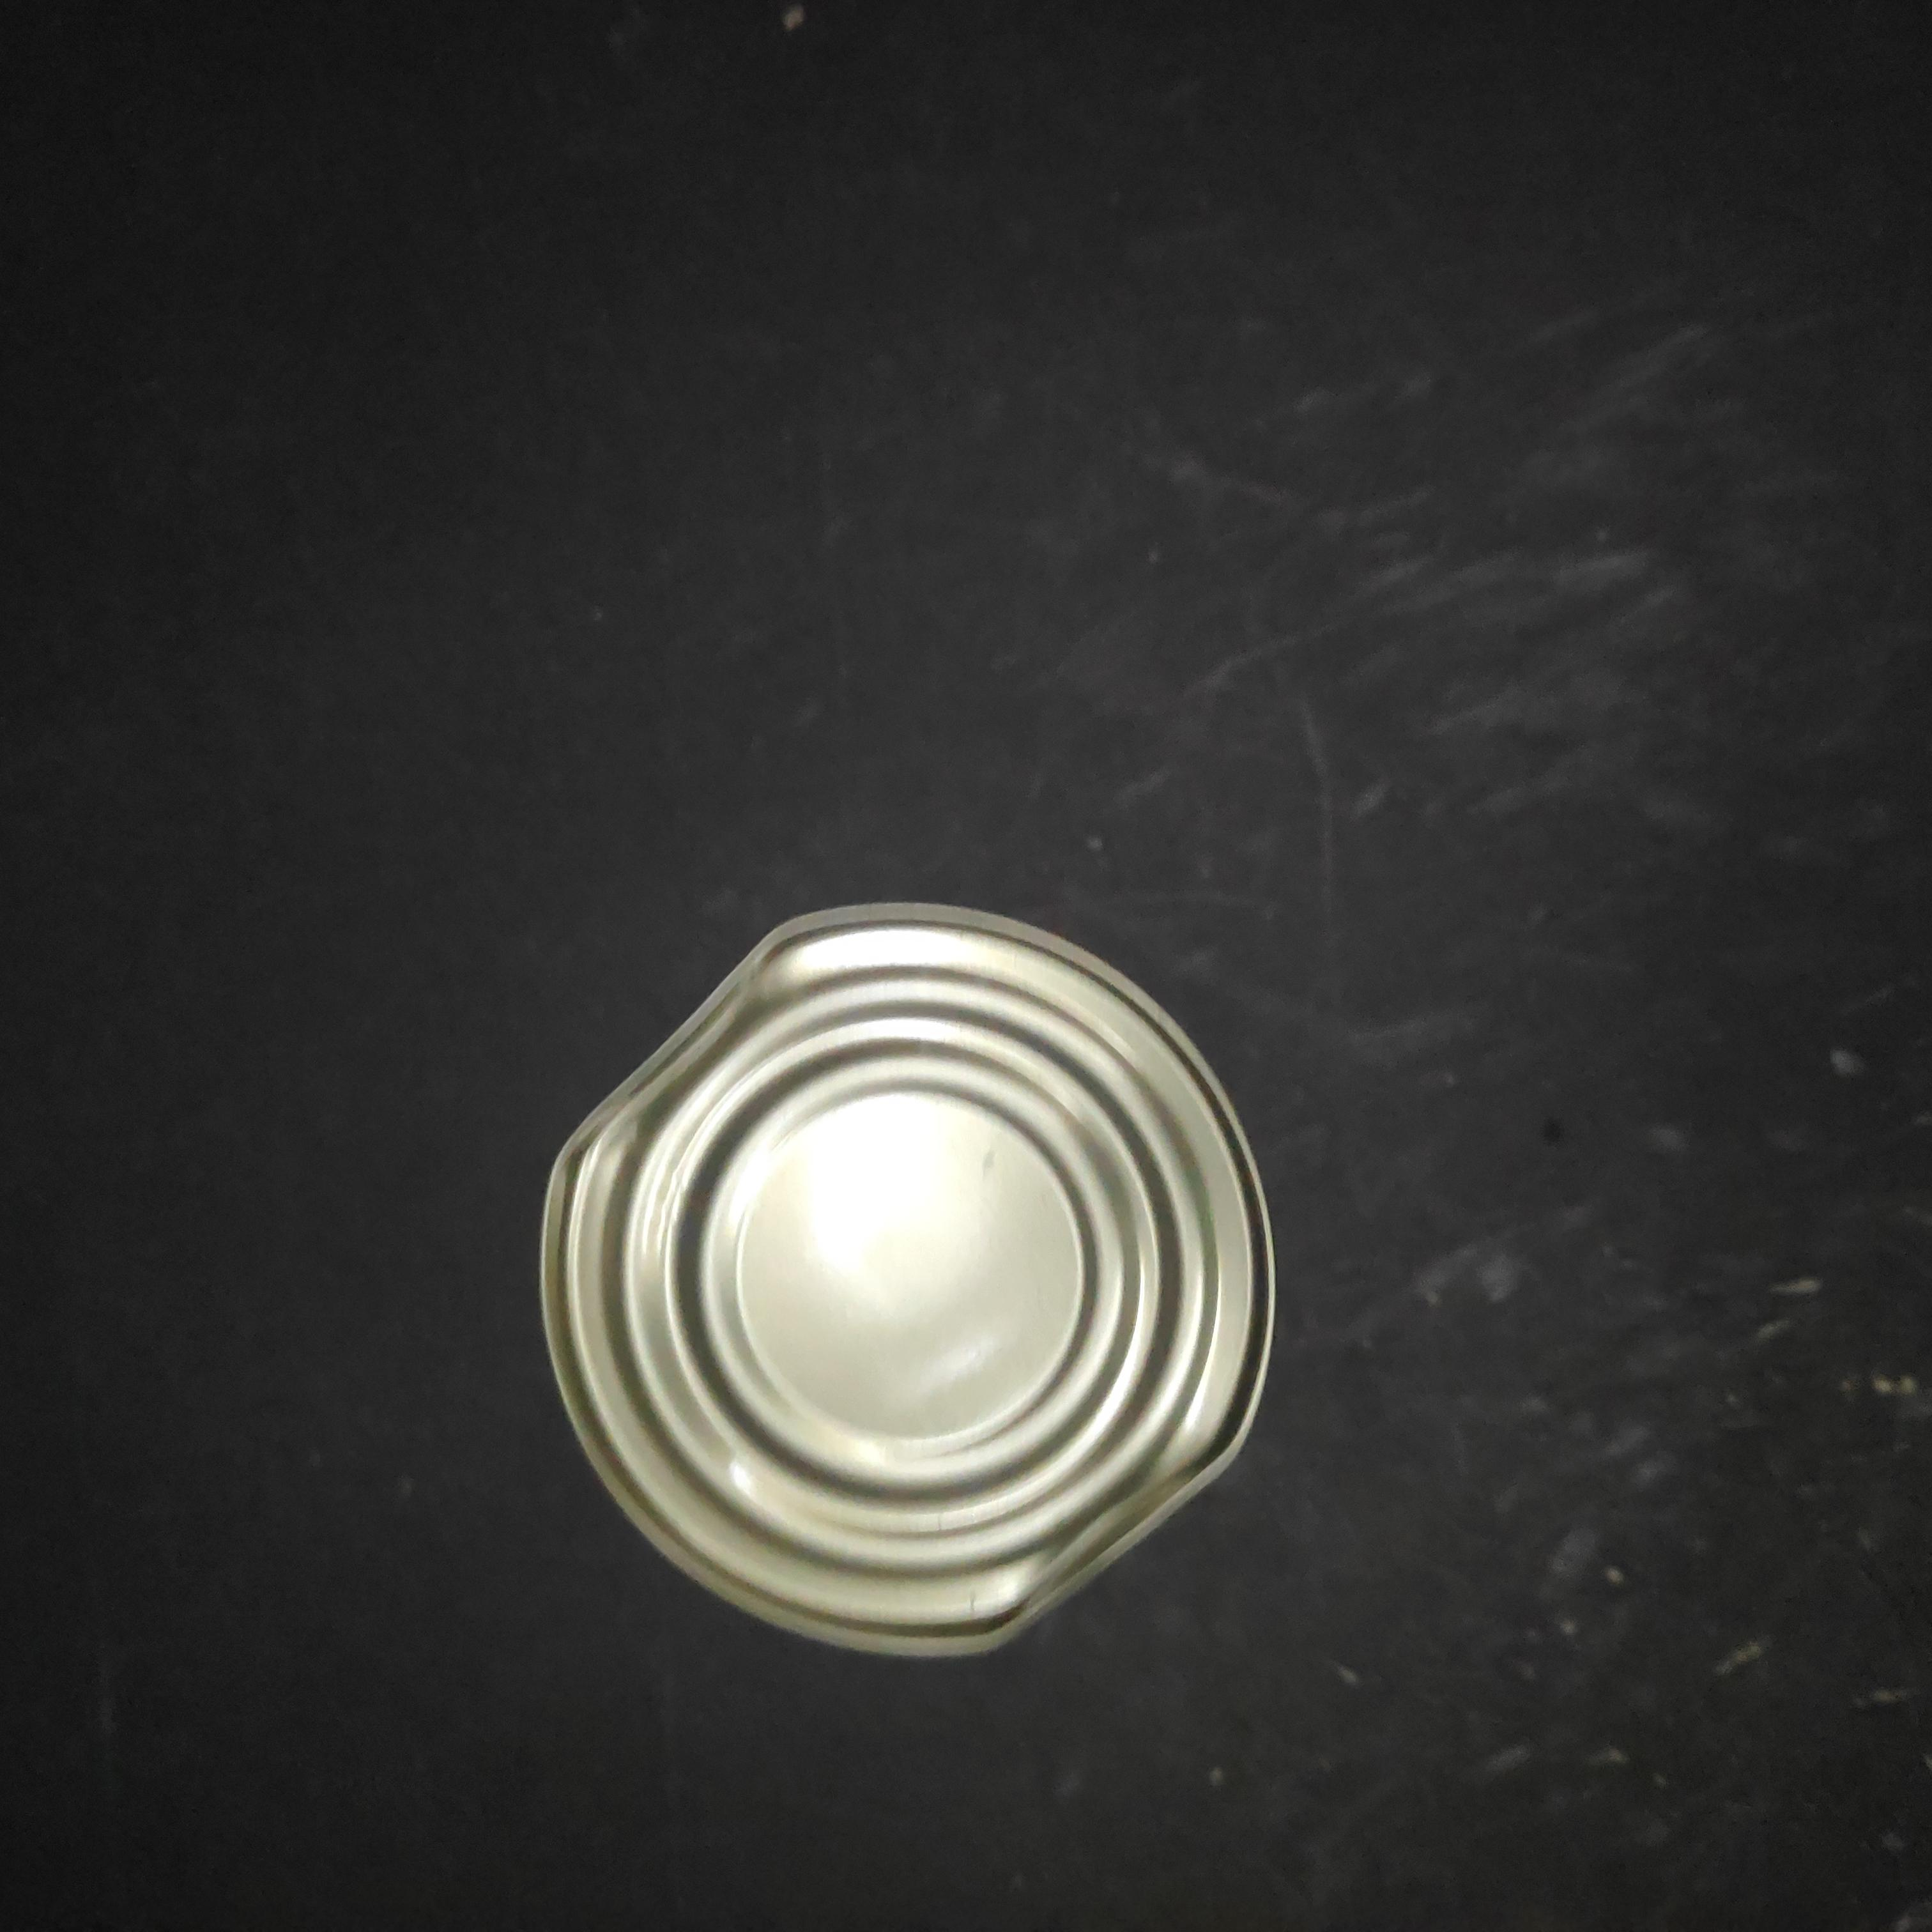Minor Defect: (649, 249, 1415, 1065)
